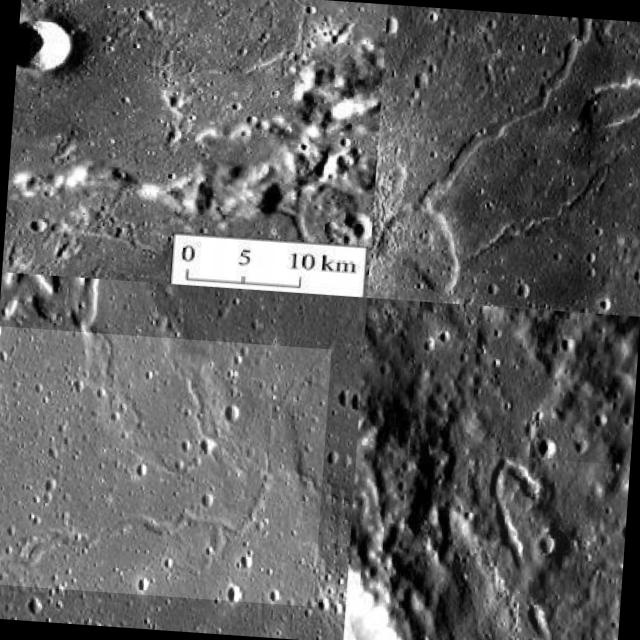crater: (0, 325, 332, 606), (369, 4, 615, 311), (478, 455, 631, 640)
